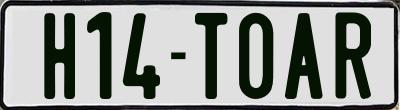0: (238, 12, 278, 102)
1: (84, 9, 109, 98)
4: (120, 10, 159, 100)
A: (285, 10, 324, 101)
H: (43, 10, 77, 100)
R: (334, 11, 370, 101)
T: (194, 12, 228, 103)
